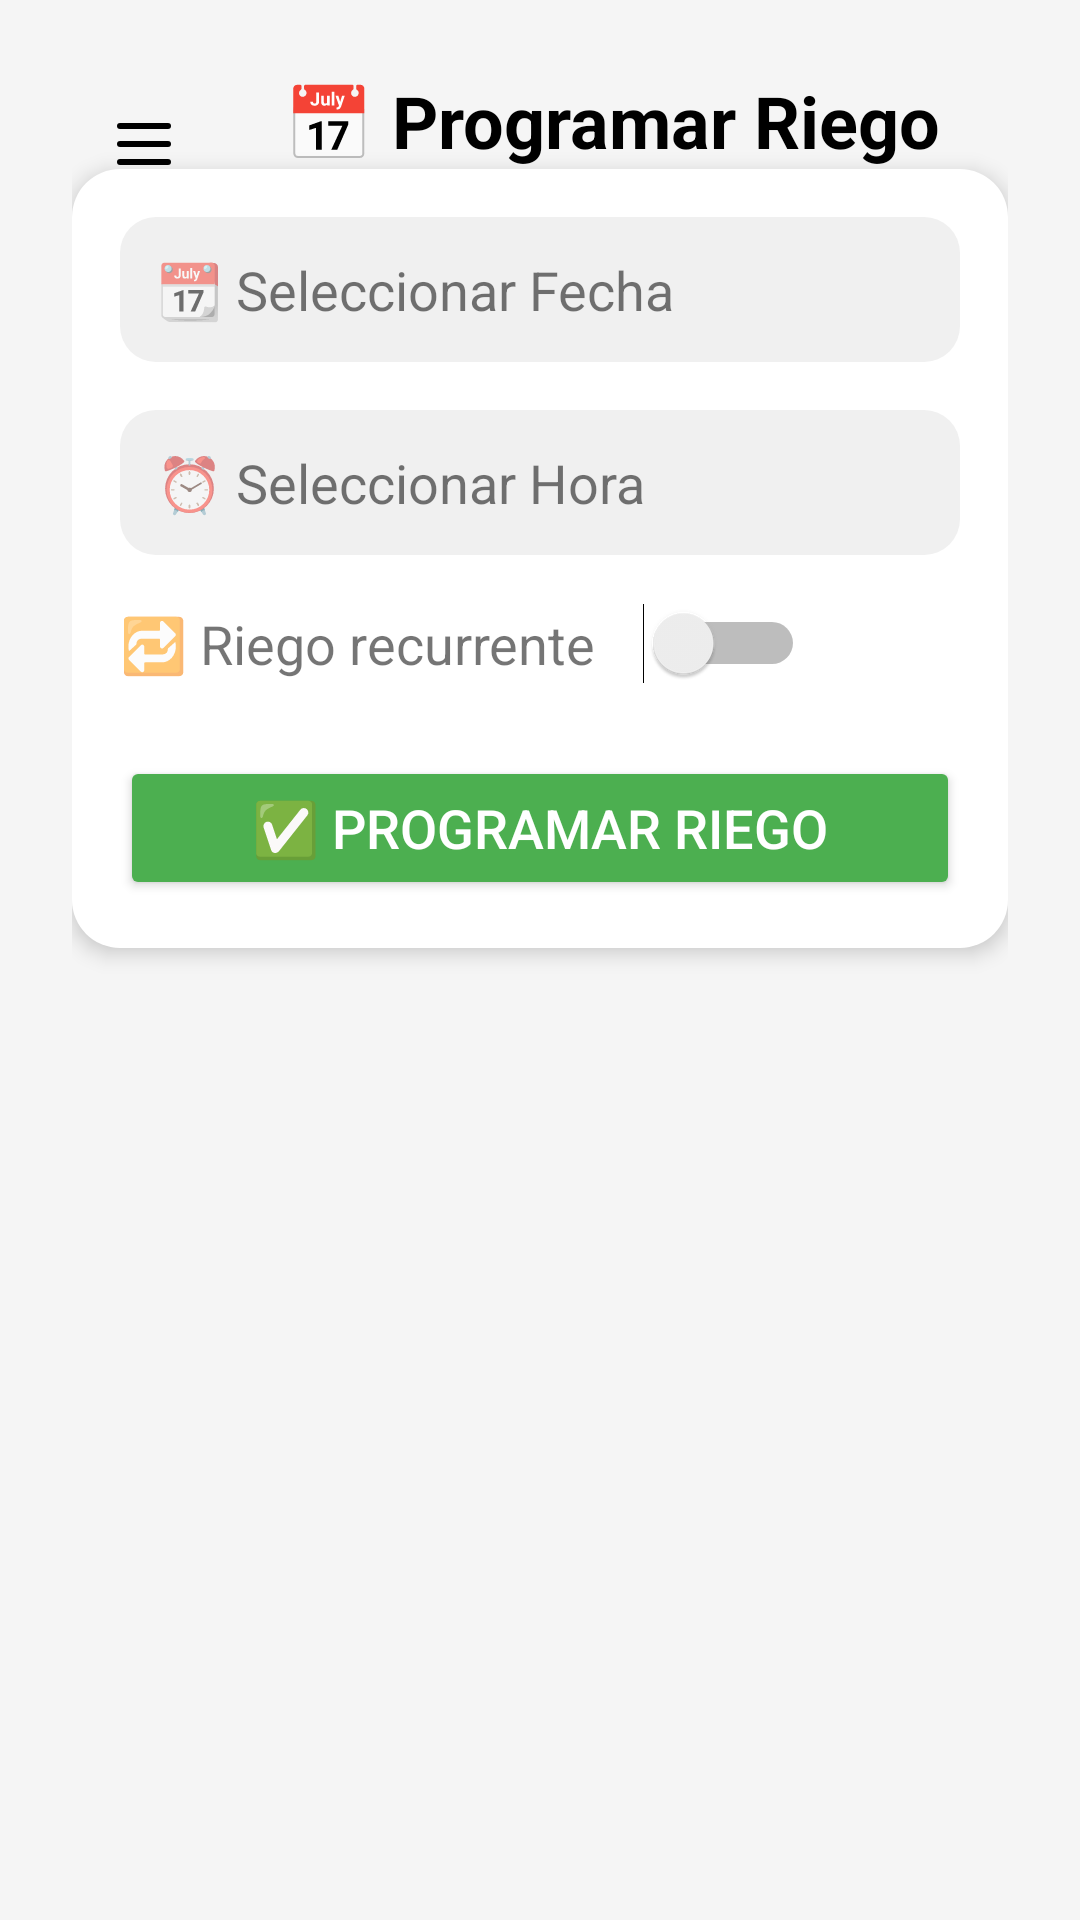

Where to tap for icons on this 1080w x 1920h app screen, as point (x, y):
Abrir menú: point (144, 144)
